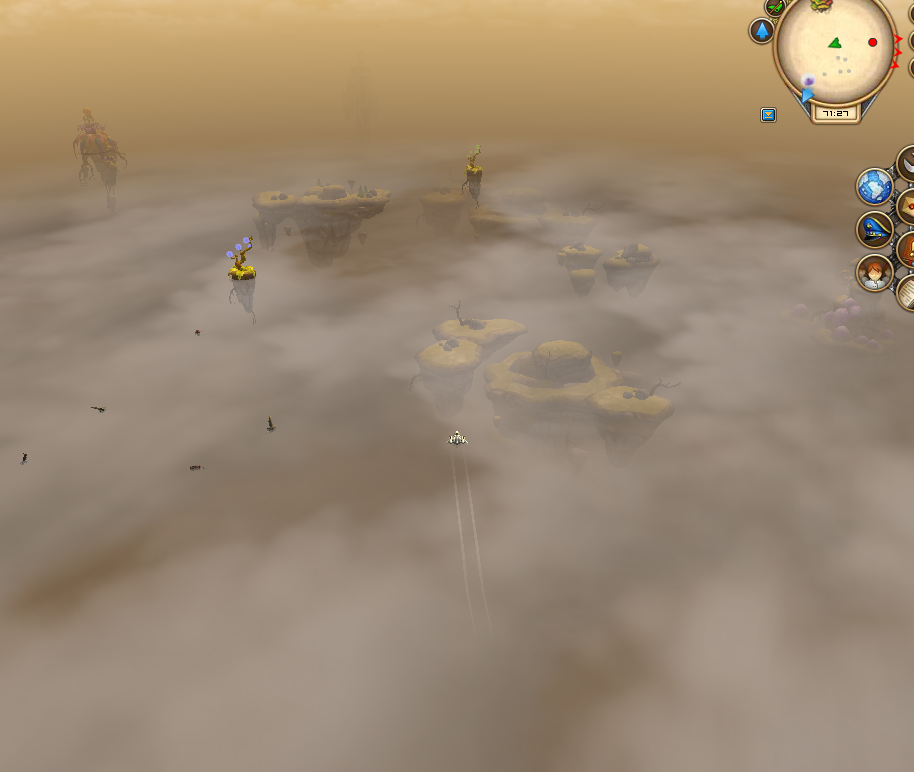dandelion-full: (223, 230, 262, 302), (459, 140, 486, 194)
